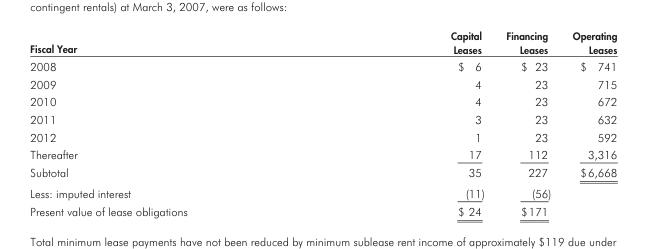table: (29, 28, 616, 217)
table column: (29, 28, 318, 217), (318, 28, 494, 217), (494, 28, 561, 217), (561, 28, 616, 217)
table column header: (29, 28, 616, 57)
table row: (29, 28, 616, 57), (29, 163, 616, 182), (29, 182, 616, 201), (29, 74, 616, 92), (29, 109, 616, 127), (29, 127, 616, 145), (29, 145, 616, 163), (29, 57, 616, 74), (29, 92, 616, 109), (29, 201, 616, 217)
